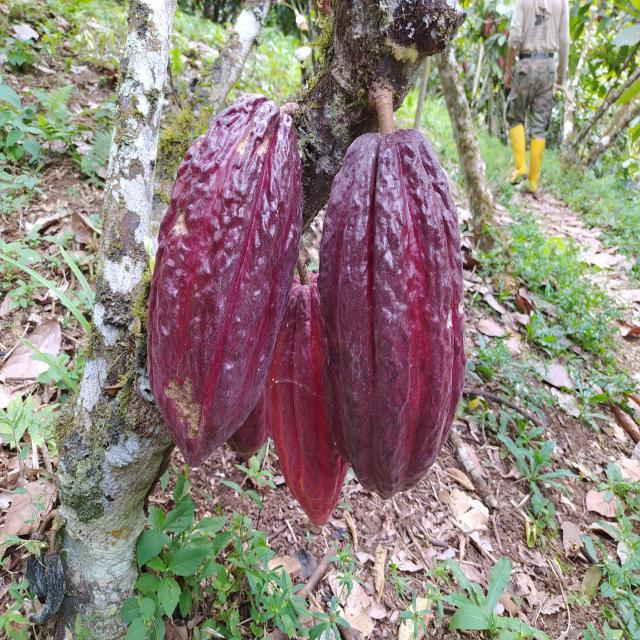Sana: (146, 98, 302, 470), (319, 125, 466, 498), (266, 268, 354, 525), (227, 393, 270, 459)
